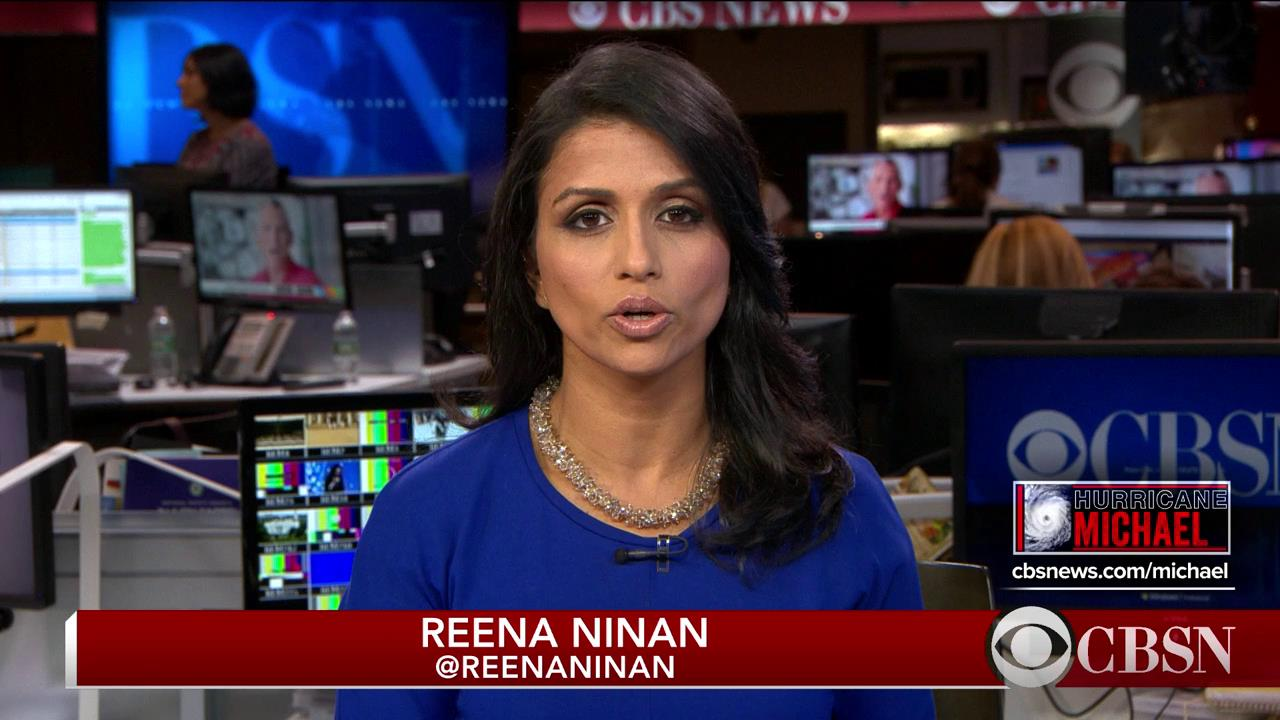@REENANINAN: (431, 651, 677, 683)
CBS: (1086, 408, 1269, 492)
CBS NEWS: (617, 1, 854, 27)
CBSN: (1075, 623, 1235, 678)
HURRICANE: (1072, 487, 1228, 512)
MICHAEL: (1071, 510, 1206, 547)
REENA NINAN: (418, 611, 712, 651)
cbsnews.com/michael: (1010, 559, 1227, 578)
